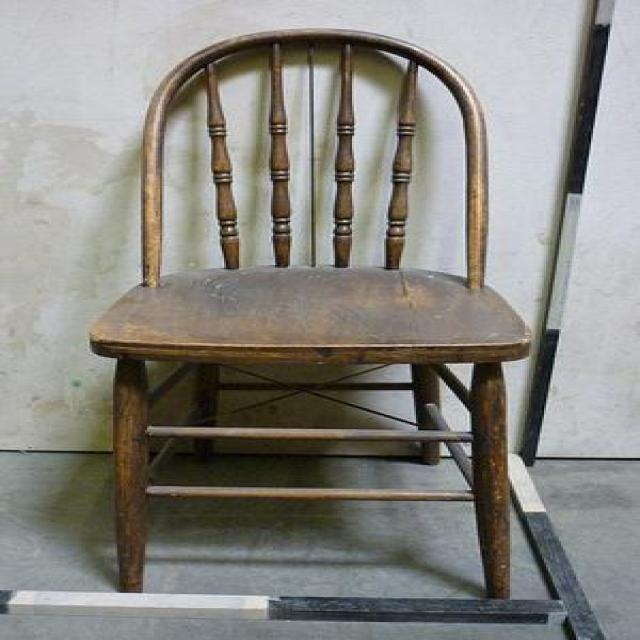chair: (86, 22, 536, 598)
